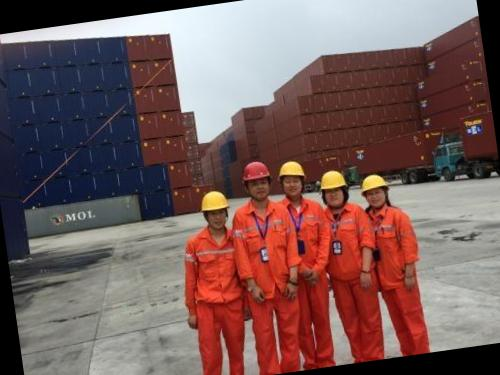Vest: (240, 200, 298, 300), (320, 198, 377, 292), (370, 205, 422, 294), (286, 202, 329, 292), (192, 233, 238, 312)
